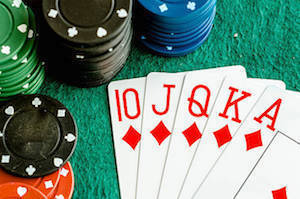AceOfDiamonds: (248, 86, 293, 199)
JackOfDiamonds: (143, 69, 178, 162)
KingOfDiamonds: (206, 71, 251, 170)
QueenOfDiamonds: (175, 67, 215, 171)
TenOfDiamonds: (107, 82, 147, 156)
